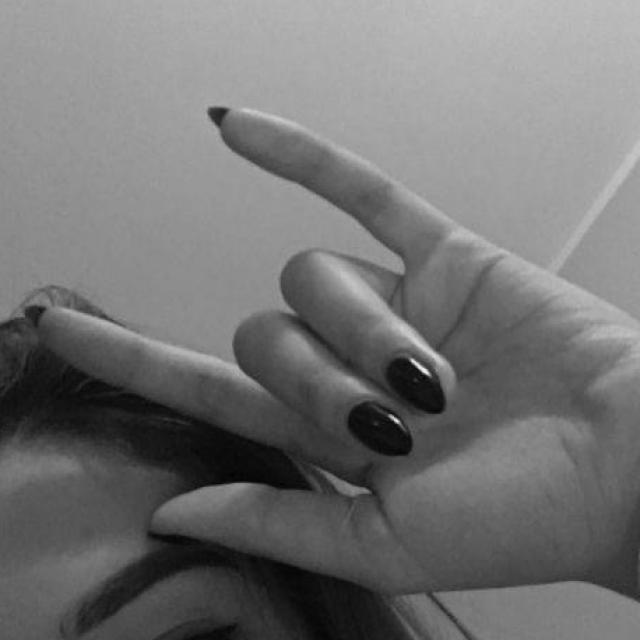i love you: (18, 94, 640, 613)
